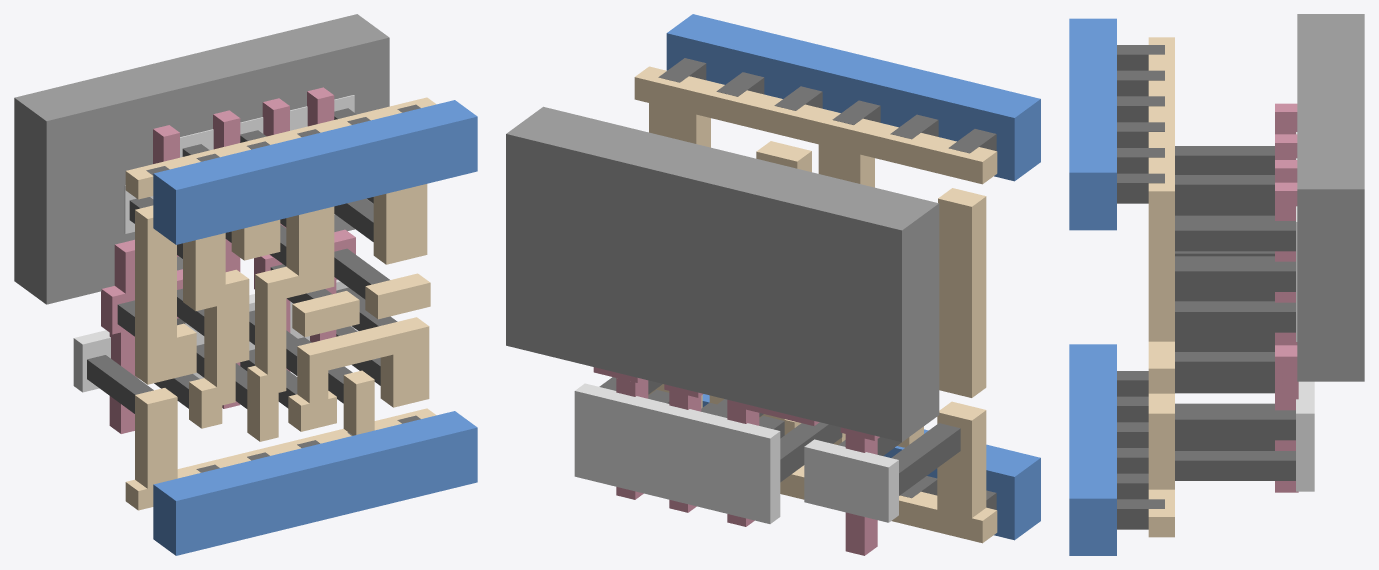
Rendered from sky130_fd_sc_hd__o21bai_1.gds.gltf.
3 views of the same model, side by side, from view 1: azimuth 30°, elevation 25°; view 2: azimuth 150°, elevation 25°; view 3: azimuth 270°, elevation 25° (orthographic). The views are drawn at different scales.
Parts seen in each view (by area): view 1: sky130_fd_sc_hd__o21bai_1_li1, sky130_fd_sc_hd__o21bai_1_met1, sky130_fd_sc_hd__o21bai_1_nwell, sky130_fd_sc_hd__o21bai_1_licon, sky130_fd_sc_hd__o21bai_1_poly, sky130_fd_sc_hd__o21bai_1_diff, sky130_fd_sc_hd__o21bai_1_mcon; view 2: sky130_fd_sc_hd__o21bai_1_nwell, sky130_fd_sc_hd__o21bai_1_li1, sky130_fd_sc_hd__o21bai_1_diff, sky130_fd_sc_hd__o21bai_1_met1, sky130_fd_sc_hd__o21bai_1_licon, sky130_fd_sc_hd__o21bai_1_mcon, sky130_fd_sc_hd__o21bai_1_poly; view 3: sky130_fd_sc_hd__o21bai_1_licon, sky130_fd_sc_hd__o21bai_1_nwell, sky130_fd_sc_hd__o21bai_1_met1, sky130_fd_sc_hd__o21bai_1_li1, sky130_fd_sc_hd__o21bai_1_mcon, sky130_fd_sc_hd__o21bai_1_poly, sky130_fd_sc_hd__o21bai_1_diff.
Part boxes in pixels (<box>): sky130_fd_sc_hd__o21bai_1_li1: <box>125,97,436,510</box>; sky130_fd_sc_hd__o21bai_1_met1: <box>153,100,477,555</box>; sky130_fd_sc_hd__o21bai_1_nwell: <box>14,14,389,304</box>; sky130_fd_sc_hd__o21bai_1_licon: <box>87,108,397,413</box>; sky130_fd_sc_hd__o21bai_1_poly: <box>101,87,355,433</box>; sky130_fd_sc_hd__o21bai_1_diff: <box>73,95,354,392</box>; sky130_fd_sc_hd__o21bai_1_mcon: <box>146,104,420,472</box>; sky130_fd_sc_hd__o21bai_1_nwell: <box>506,106,939,441</box>; sky130_fd_sc_hd__o21bai_1_li1: <box>634,66,997,543</box>; sky130_fd_sc_hd__o21bai_1_diff: <box>574,383,898,523</box>; sky130_fd_sc_hd__o21bai_1_met1: <box>666,14,1040,540</box>; sky130_fd_sc_hd__o21bai_1_licon: <box>599,377,960,495</box>; sky130_fd_sc_hd__o21bai_1_mcon: <box>658,58,996,509</box>; sky130_fd_sc_hd__o21bai_1_poly: <box>593,367,879,555</box>; sky130_fd_sc_hd__o21bai_1_licon: <box>1175,146,1295,480</box>; sky130_fd_sc_hd__o21bai_1_nwell: <box>1297,14,1364,381</box>; sky130_fd_sc_hd__o21bai_1_met1: <box>1069,18,1116,555</box>; sky130_fd_sc_hd__o21bai_1_li1: <box>1148,37,1174,537</box>; sky130_fd_sc_hd__o21bai_1_mcon: <box>1117,45,1164,529</box>; sky130_fd_sc_hd__o21bai_1_poly: <box>1275,103,1298,492</box>; sky130_fd_sc_hd__o21bai_1_diff: <box>1296,132,1314,491</box>.
Size of the model in its own units: 3.14 by 3.2 by 2.24.
